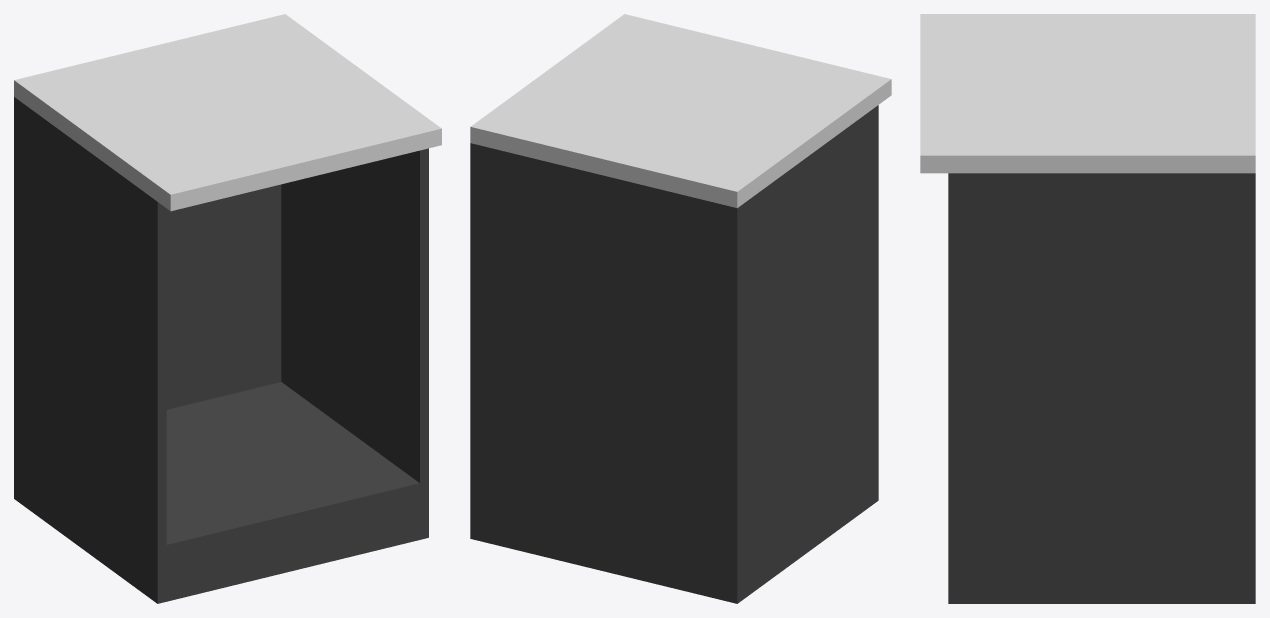
Rendered from Kitchen1_C3_01.fbx.
3 views of the same model, side by side, from view 1: azimuth 30°, elevation 25°; view 2: azimuth 150°, elevation 25°; view 3: azimuth 270°, elevation 25° (orthographic). The views are drawn at different scales.
Visible parts, largest first — view 1: Kitchen1_C3_01; view 2: Kitchen1_C3_01; view 3: Kitchen1_C3_01.
Part boxes in pixels (bbox=[...]): Kitchen1_C3_01: bbox=[14, 14, 441, 603]; Kitchen1_C3_01: bbox=[470, 14, 891, 603]; Kitchen1_C3_01: bbox=[920, 14, 1255, 603].
Bounding box in the file's own units: 60 × 88.5 × 60.
